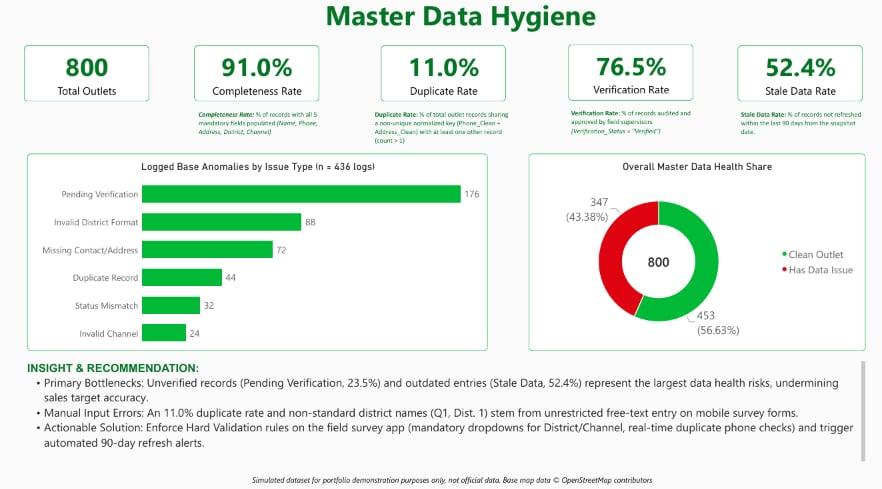

The page's visual inventory and layout, read from the dashboard file:
{"tool":"powerbi","page":{"name":"Master Data Hygiene","canvas":[1920,1080],"ordinal":0},"visuals":[{"type":"cardVisual","fields":{"Data":["_Measures.1. Total Outlets"]},"box":[56.1,125.7,268,120],"z":0},{"type":"textbox","box":[695,20,595,85],"z":1000},{"type":"cardVisual","fields":{"Data":["_Measures.4. Completeness Rate"]},"box":[421.1,125.7,268,120],"z":2000},{"type":"cardVisual","fields":{"Data":["_Measures.5. Duplicate Rate"]},"box":[821.1,125.7,268,120],"z":3000},{"type":"cardVisual","fields":{"Data":["_Measures.3. Verification Rate"]},"box":[1222.7,124.1,268,120],"z":4000},{"type":"cardVisual","fields":{"Data":["_Measures.6. Stale Data Rate"]},"box":[1586.1,125.7,268,120],"z":5000},{"type":"textbox","box":[430,262.5,267.5,77.5],"z":6000},{"type":"clusteredBarChart","title":"Logged Base Anomalies by Issue Type (n = 436 logs)","fields":{"Category":["Data_Issue_Log.Issue_Type"],"Y":["CountNonNull(Data_Issue_Log.Log_ID)"]},"box":[62.5,357.5,987.5,422.5],"z":7000},{"type":"donutChart","title":"Overall Master Data Health Share","fields":{"Category":["Outlets.Data_Health_Status"],"Y":["CountNonNull(Outlets.Outlet_ID)"]},"box":[1137.5,357.5,722.5,422.5],"z":8000},{"type":"textbox","box":[545,1045,1110,35],"z":9000},{"type":"textbox","box":[808,263,293,78],"z":10000},{"type":"textbox","box":[1229.1,260.9,267.5,77.5],"z":11000},{"type":"textbox","box":[1592.5,262.5,267.5,77.5],"z":12000},{"type":"textbox","box":[62.5,802.5,1797.5,220],"z":13000},{"type":"textbox","box":[742.5,707.5,307.5,72.5],"z":13001}]}

Visuals, with their boxes in screenshot pixels (x1, y1, x2, y2), scaled from the page's 1920x1080 canvas onto the 882x489 screenshot:
cardVisual - _Measures.1. Total Outlets: [26, 57, 149, 111]
textbox: [319, 9, 593, 48]
cardVisual - _Measures.4. Completeness Rate: [193, 57, 317, 111]
cardVisual - _Measures.5. Duplicate Rate: [377, 57, 500, 111]
cardVisual - _Measures.3. Verification Rate: [562, 56, 685, 111]
cardVisual - _Measures.6. Stale Data Rate: [729, 57, 852, 111]
textbox: [198, 119, 320, 154]
"Logged Base Anomalies by Issue Type (n = 436 logs)" clusteredBarChart: [29, 162, 482, 353]
"Overall Master Data Health Share" donutChart: [523, 162, 854, 353]
textbox: [250, 473, 760, 488]
textbox: [371, 119, 506, 154]
textbox: [565, 118, 688, 153]
textbox: [732, 119, 854, 154]
textbox: [29, 363, 854, 463]
textbox: [341, 320, 482, 353]
